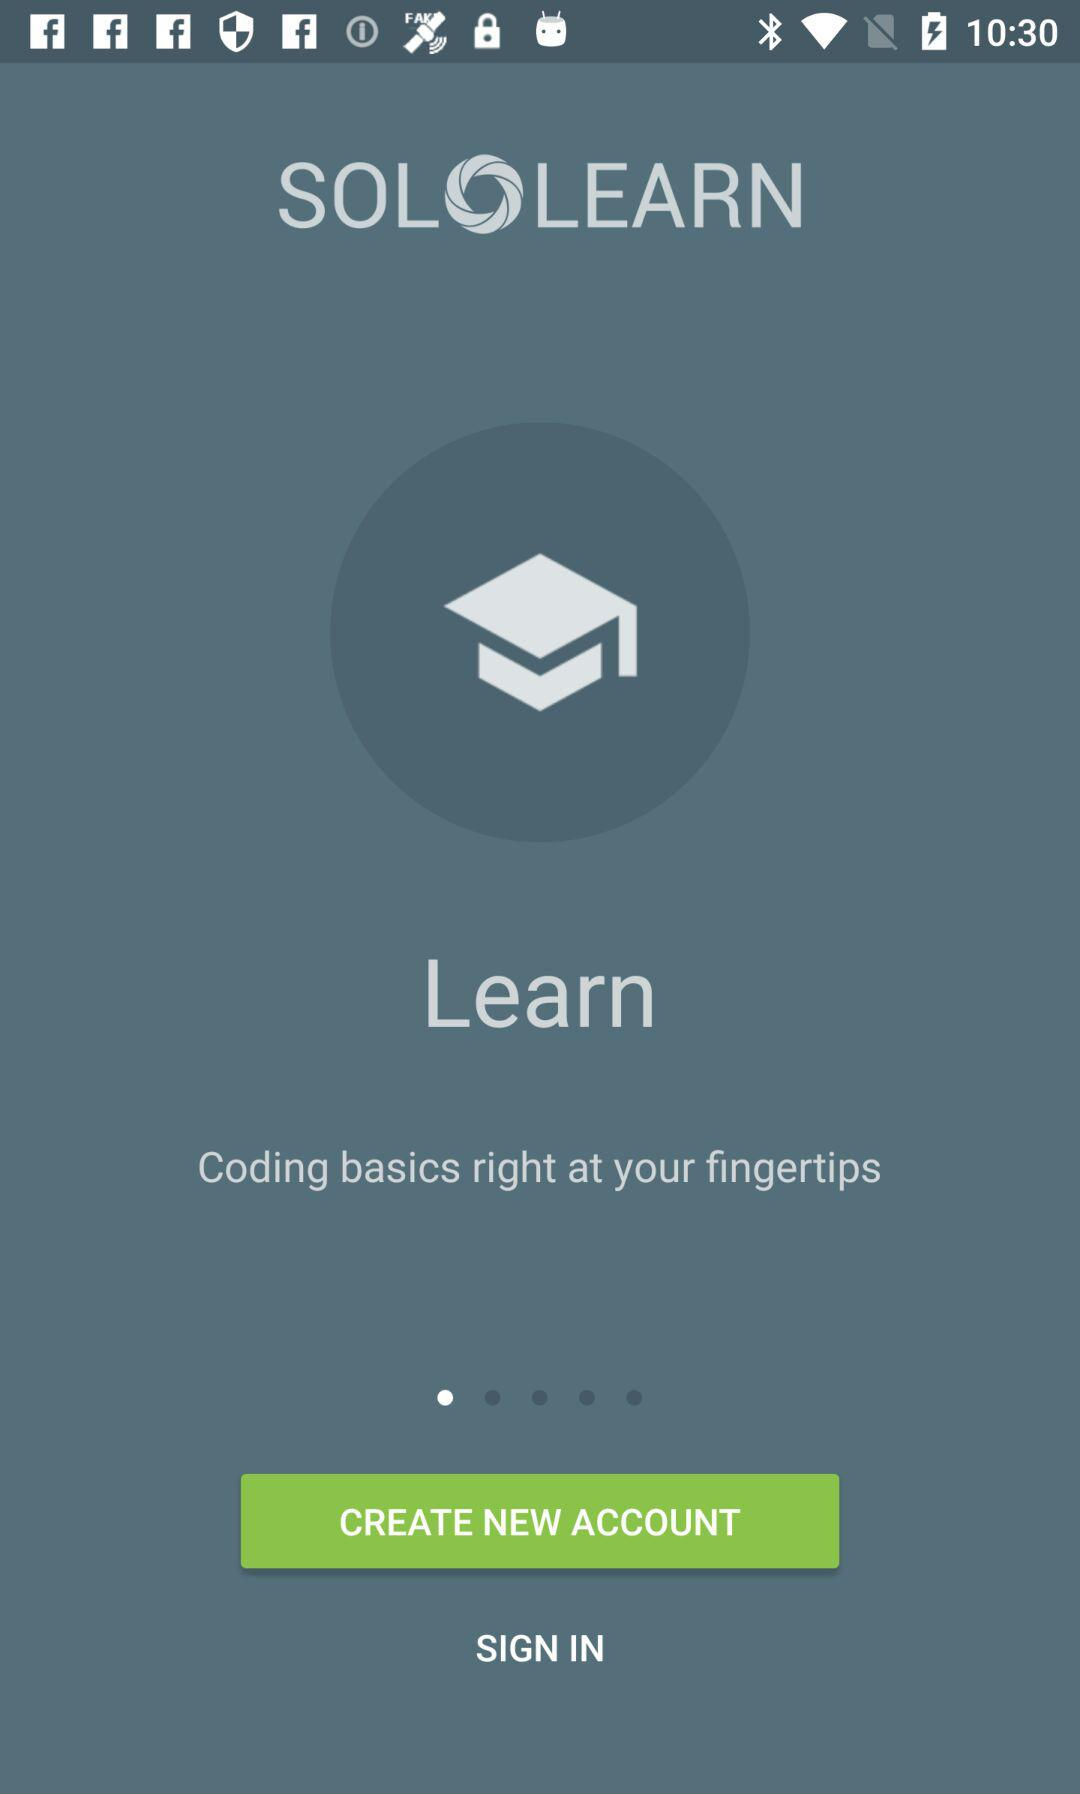Image: (329, 422, 749, 843), (278, 154, 805, 238)
PageIndicator: (436, 1388, 644, 1410)
Text: (197, 1146, 881, 1196), (427, 959, 655, 1030), (477, 1633, 605, 1665)
TextButton: (240, 1472, 840, 1570)
UpperTaskBar: (1, 1, 1080, 64)
